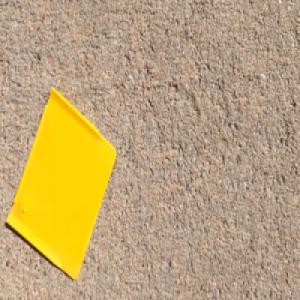PlasticPart: (4, 85, 116, 280)
